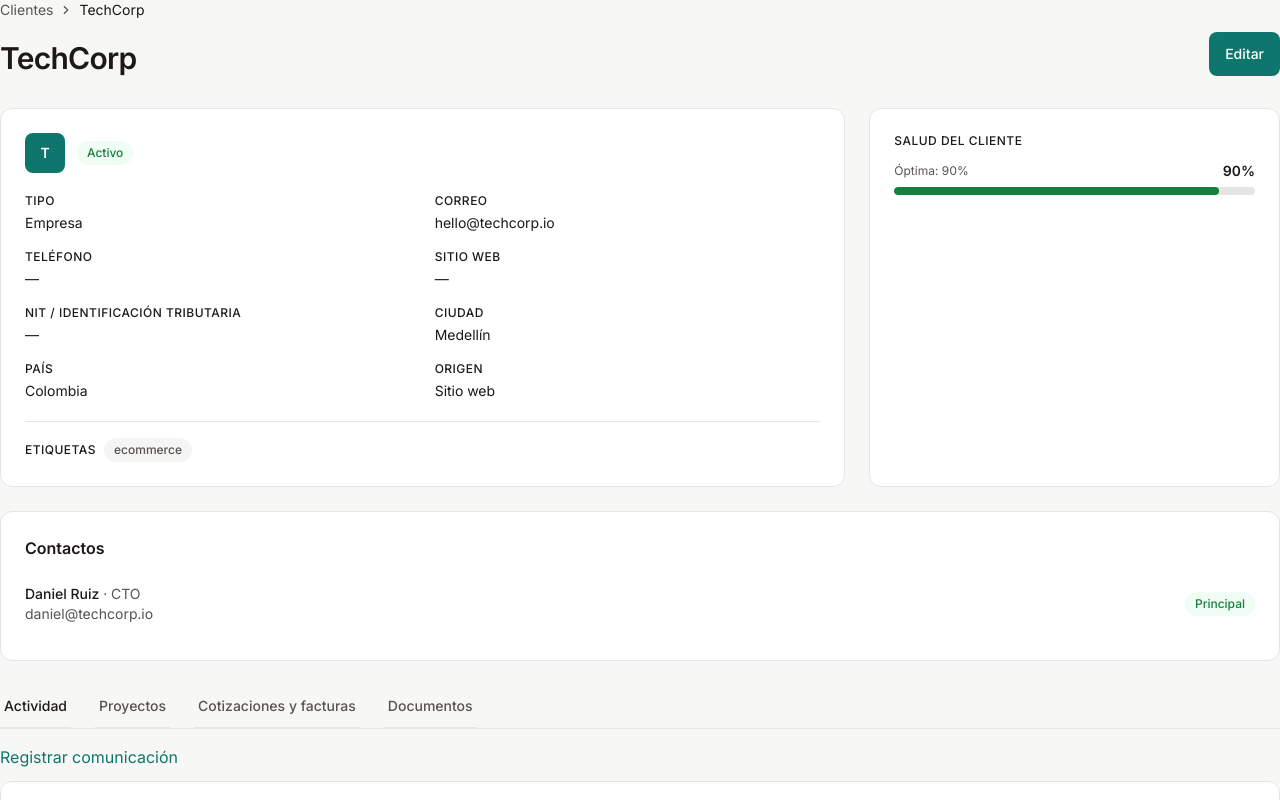
HU-01.3 Ver detalle y editar cliente — pestañas › quotes tab shows number, title and status for a client with quotes
This screenshot has width=1280, height=800.
Step 1. Click the tab "Cotizaciones y facturas" → (277, 707), box [194,685,360,729]
(page scrolled)
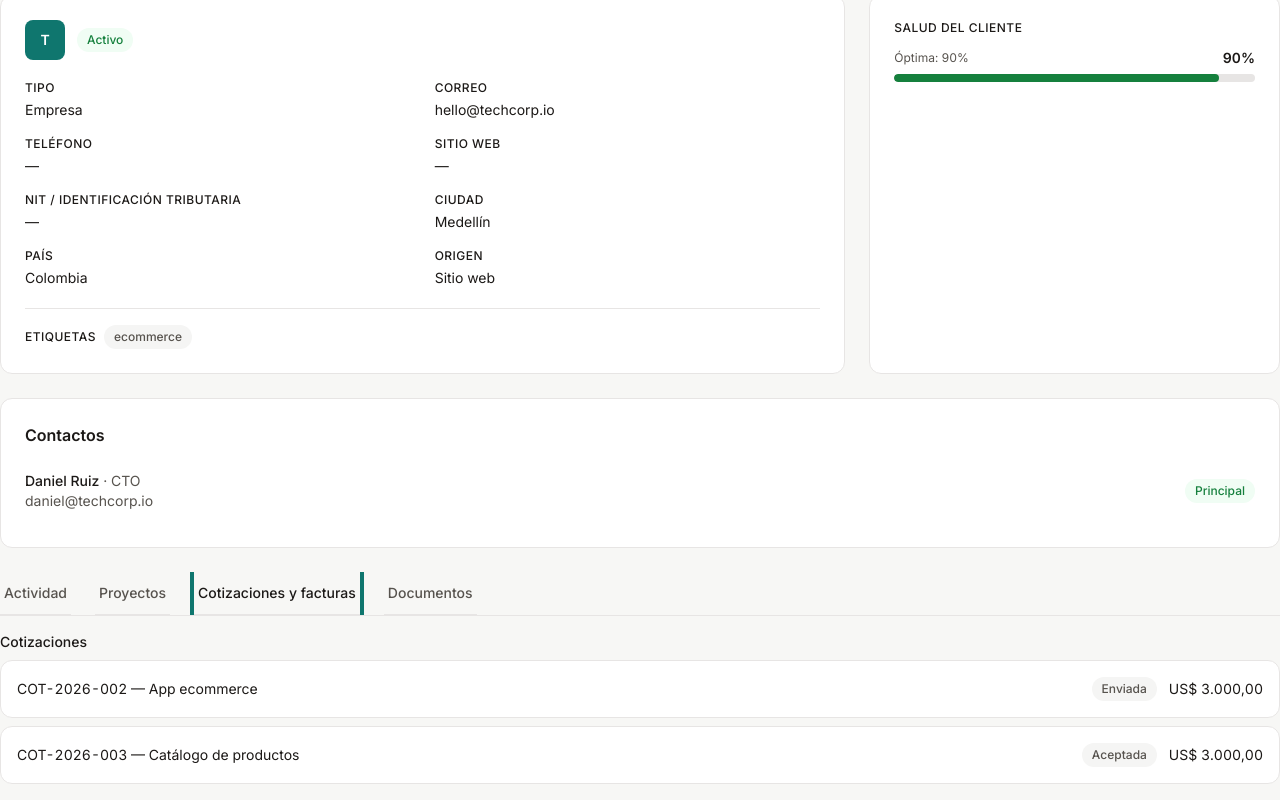
Expected: the text "Aceptada" is shown, [1082,743,1157,767]
